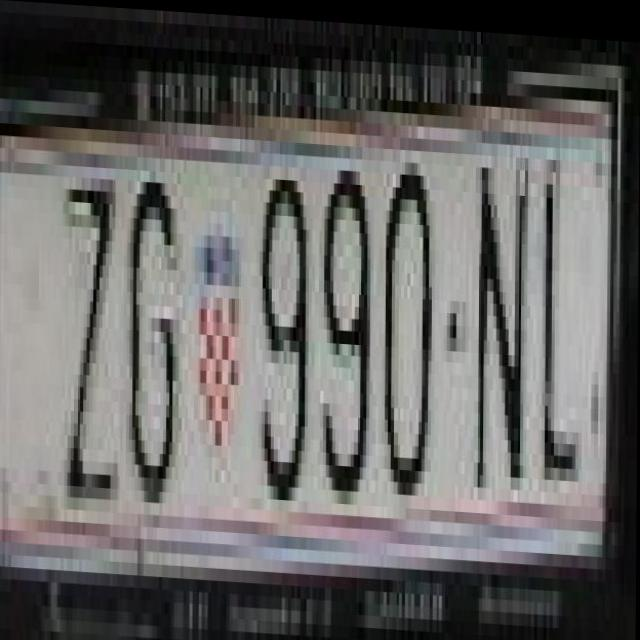0: (382, 143, 440, 503)
9: (317, 164, 372, 500), (259, 149, 310, 509)
G: (126, 167, 181, 515)
L: (532, 139, 593, 487)
N: (471, 135, 532, 483)
Z: (62, 163, 123, 511)
